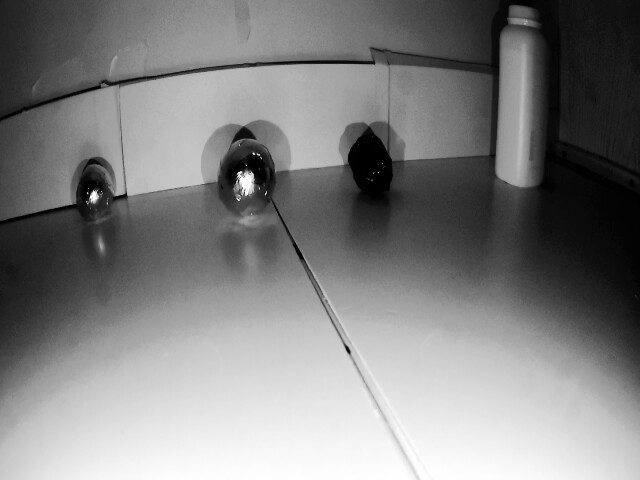black: (349, 130, 396, 201)
silver: (213, 144, 276, 219), (72, 160, 116, 221)
